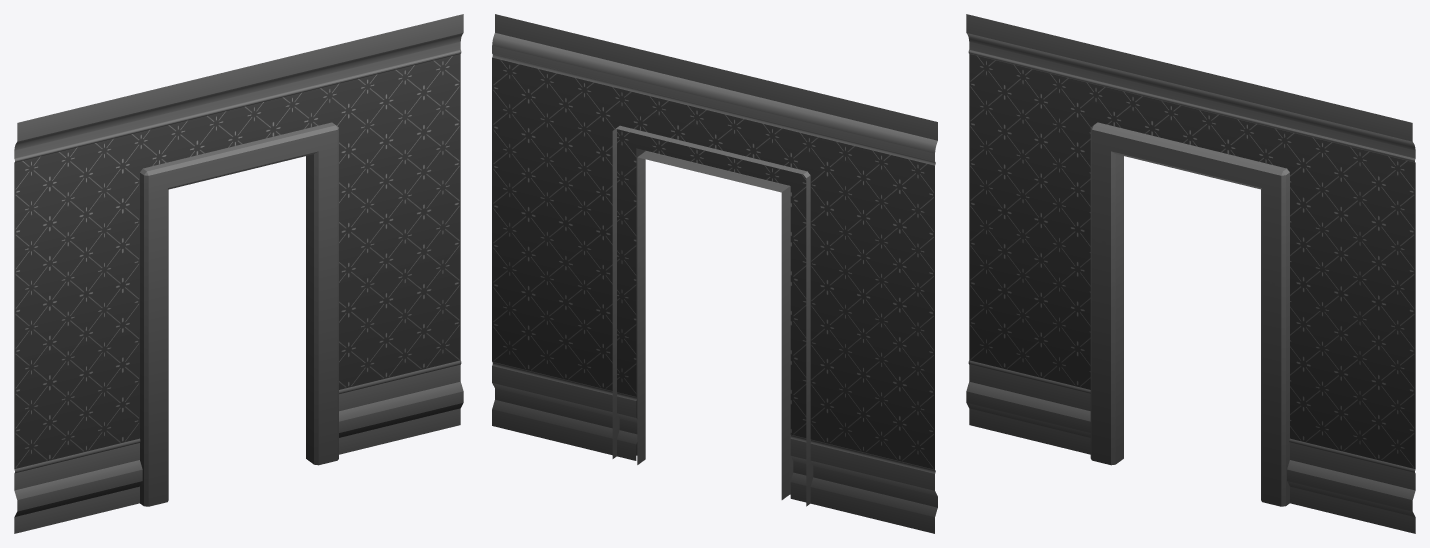
File: Wall_02_Door_Light.fbx
3 views of the same model, side by side, from view 1: azimuth 30°, elevation 25°; view 2: azimuth 150°, elevation 25°; view 3: azimuth 330°, elevation 25° (orthographic).
Parts seen in each view (by area): view 1: Wall_02_Light1; view 2: Wall_02_Light1; view 3: Wall_02_Light1.
Boxes of the visible parts, x1,y1,x2,y2 form: Wall_02_Light1: (14, 14, 463, 533); Wall_02_Light1: (492, 14, 937, 533); Wall_02_Light1: (966, 14, 1415, 533).
Size of the model in its own units: 3 by 2.65 by 0.1165.
